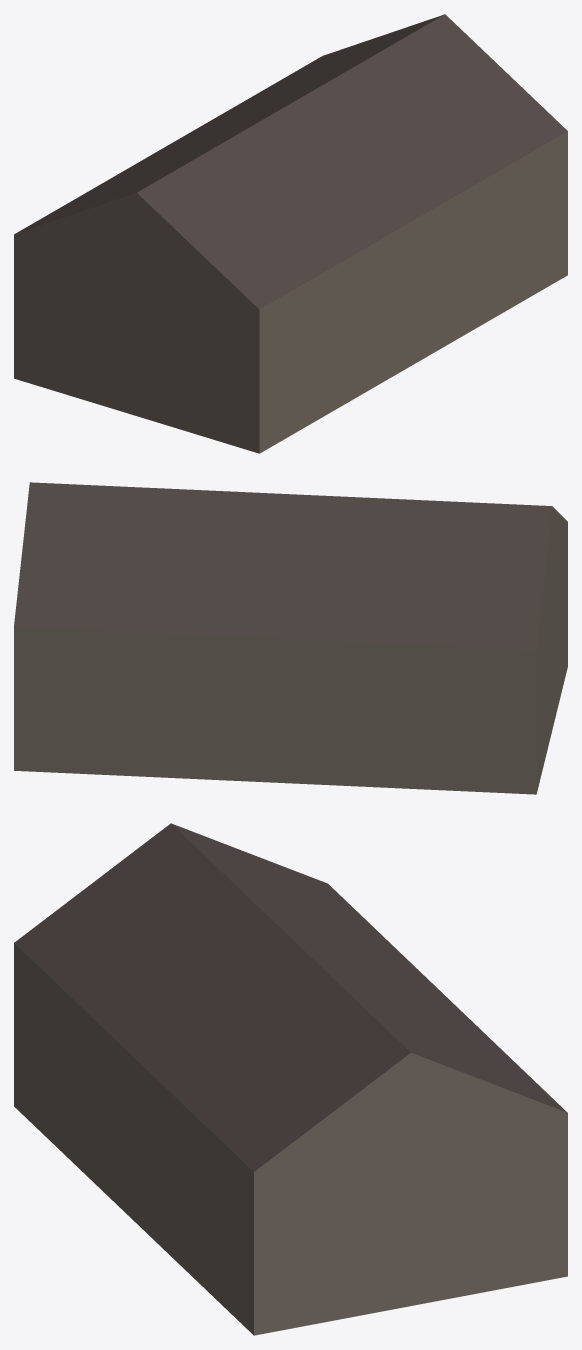
3 views of the same model, one above another, from view 1: azimuth 30°, elevation 25°; view 2: azimuth 150°, elevation 25°; view 3: azimuth 270°, elevation 25° (orthographic). The views are drawn at different scales.
Parts seen in each view (by area): view 1: HP-w369342515; view 2: HP-w369342515; view 3: HP-w369342515.
Part boxes in pixels (<box>): HP-w369342515: <box>14,14,567,453</box>; HP-w369342515: <box>14,482,567,794</box>; HP-w369342515: <box>14,823,567,1335</box>.
Bounding box in the file's own units: 22.72 × 9.3 × 18.43.
